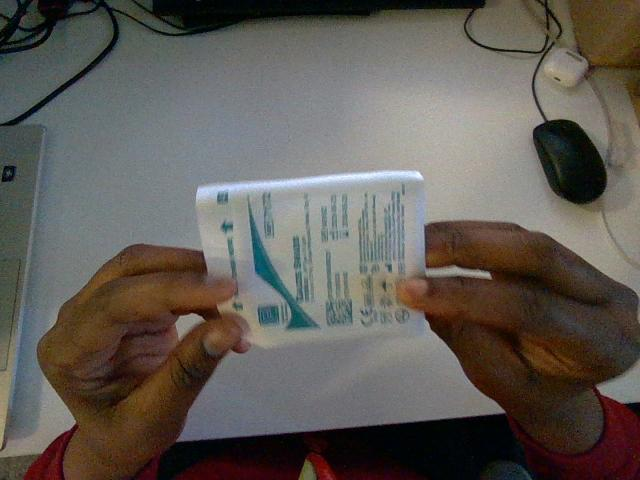gauze: (196, 171, 425, 346)
